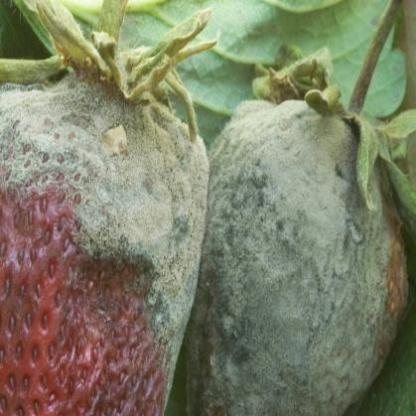Strawberry_Gray_Mold: (182, 68, 415, 415), (0, 67, 212, 415)
